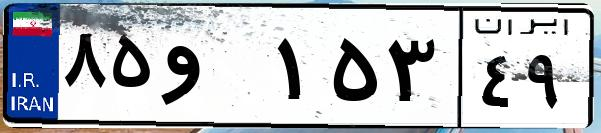1: (270, 28, 330, 110)
3: (385, 28, 445, 110)
4: (475, 38, 525, 113)
5: (330, 28, 385, 110), (110, 28, 158, 98)
8: (57, 26, 110, 100)
9: (525, 38, 570, 115)
و: (158, 20, 270, 120)
